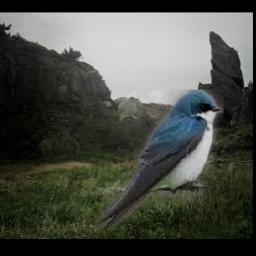Swallow: (95, 90, 223, 231)
